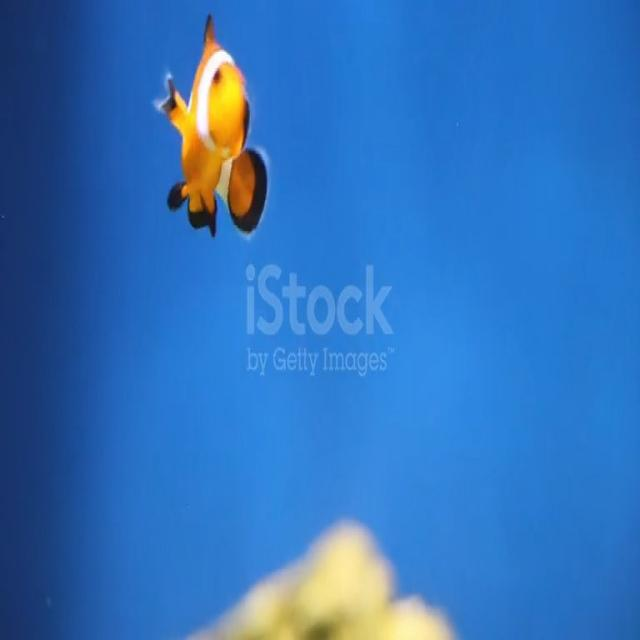fish: (160, 11, 269, 241)
